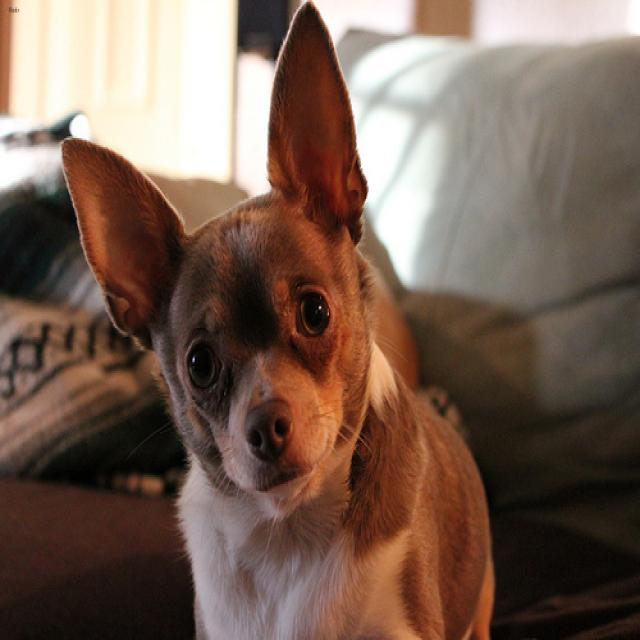dog-chihuahua: (49, 2, 502, 636)
